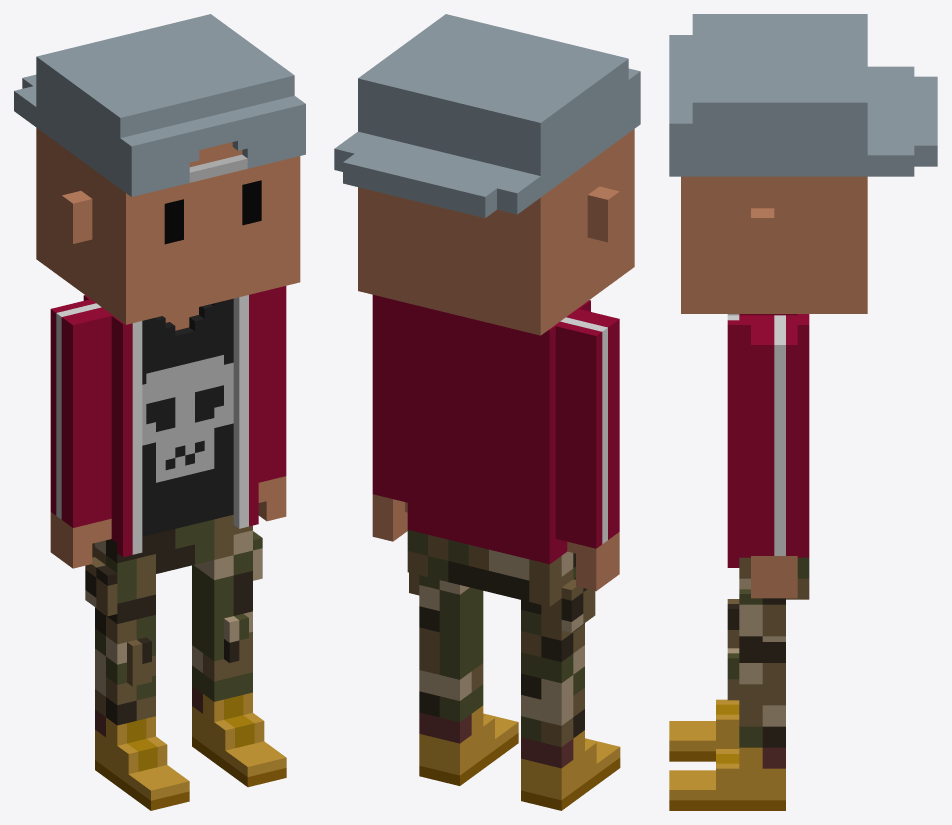
File: beebits-1.glb
3 renders of one model, left to right at view 1: azimuth 30°, elevation 25°; view 2: azimuth 150°, elevation 25°; view 3: azimuth 270°, elevation 25°, orthographic. The views are drawn at different scales.
Visible parts, largest first — view 1: Cube.001; view 2: Cube.001; view 3: Cube.001.
Boxes of the visible parts, x1,y1,x2,y2 form: Cube.001: (14,14,305,810); Cube.001: (334,14,640,810); Cube.001: (669,14,937,810).
Bounding box in the file's own units: 0.968 × 2.99 × 1.01.
